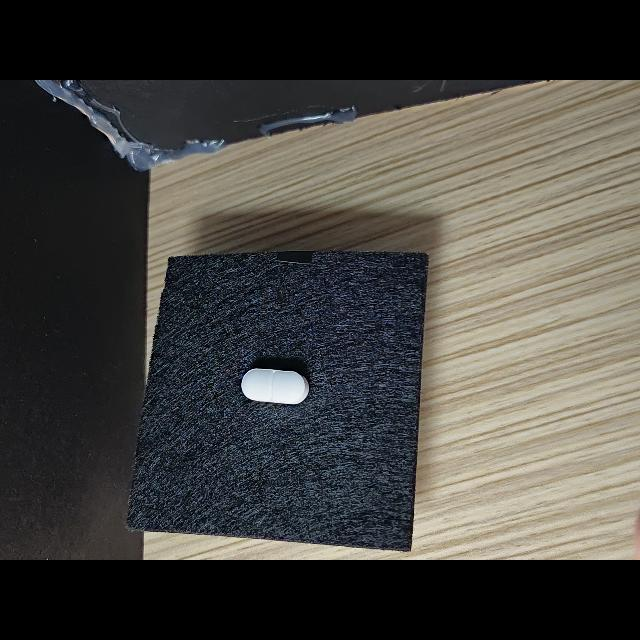Intact Pill: (241, 368, 309, 404)
